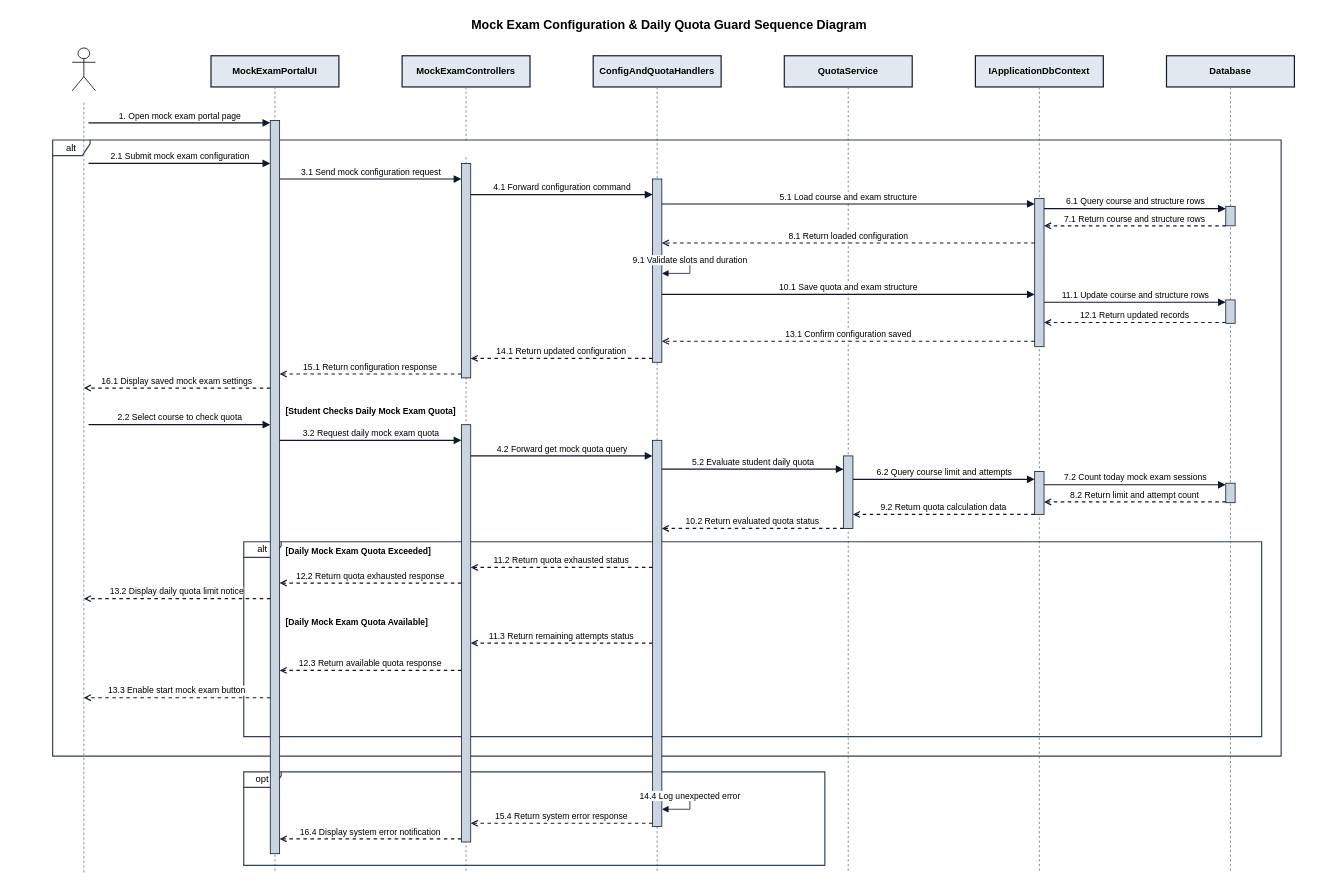
Image size: 1337x888. Some labels were removed from this diagram. The shapes that lost their labels are listed below. From the top down, each one's centre as x and y in pixels, then its label:
At (x=83, y=69): "User".
At (x=420, y=149): "[Department Head or Admin Updates Mock Exam Configuration]".
At (x=327, y=781): "[Exception occurs]".
